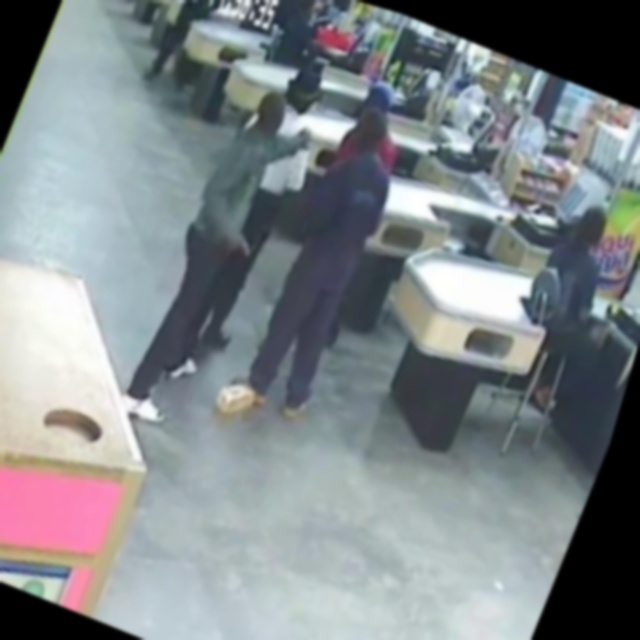gun: (220, 220, 264, 265)
